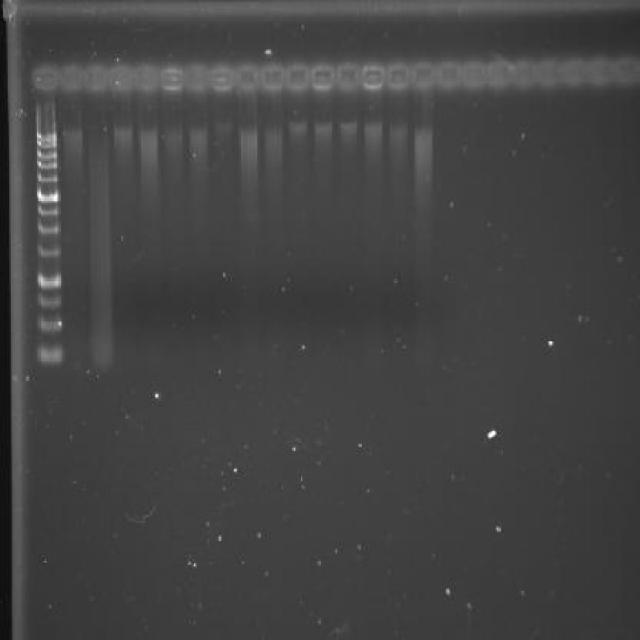L: (21, 48, 640, 102)
M: (31, 103, 67, 372)
P: (36, 268, 64, 292), (36, 344, 64, 366), (37, 314, 65, 336), (36, 293, 64, 312), (36, 242, 62, 261), (36, 219, 61, 238), (36, 184, 61, 203), (36, 202, 61, 218), (34, 170, 62, 184), (36, 128, 58, 142), (35, 148, 60, 160), (36, 160, 61, 171), (35, 142, 60, 150)
Pc: (612, 54, 640, 90), (486, 58, 514, 92), (184, 62, 212, 95), (560, 56, 588, 89), (436, 58, 462, 92), (536, 56, 562, 90), (588, 54, 612, 90), (462, 58, 486, 94), (286, 61, 312, 94), (134, 64, 160, 96), (336, 61, 361, 94), (386, 61, 411, 94), (410, 59, 435, 92), (512, 58, 536, 92), (83, 63, 109, 94), (108, 64, 134, 95), (210, 62, 236, 93), (234, 62, 260, 93), (260, 63, 285, 94), (32, 64, 58, 93), (310, 61, 336, 90), (360, 61, 386, 90), (160, 63, 185, 92), (58, 66, 82, 94)
